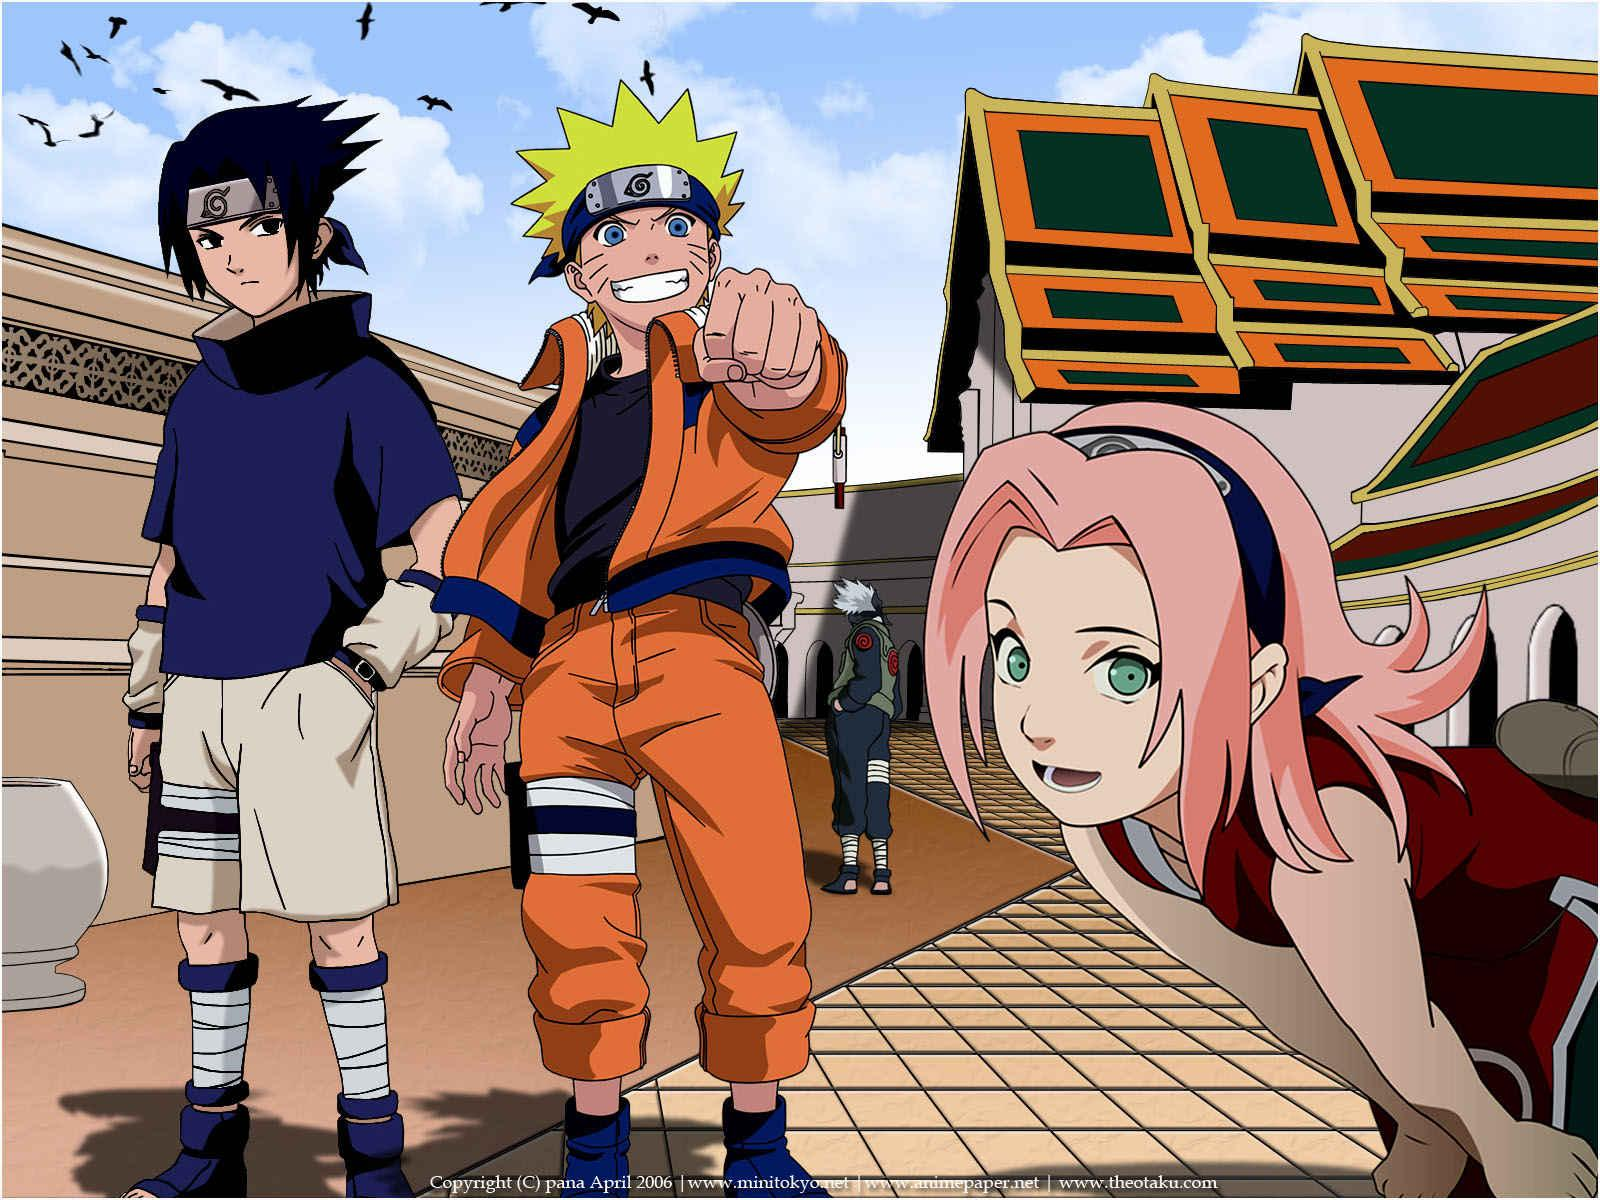naruto: (552, 161, 727, 324)
sakura: (963, 403, 1303, 839)
sasuke: (163, 169, 348, 316)
